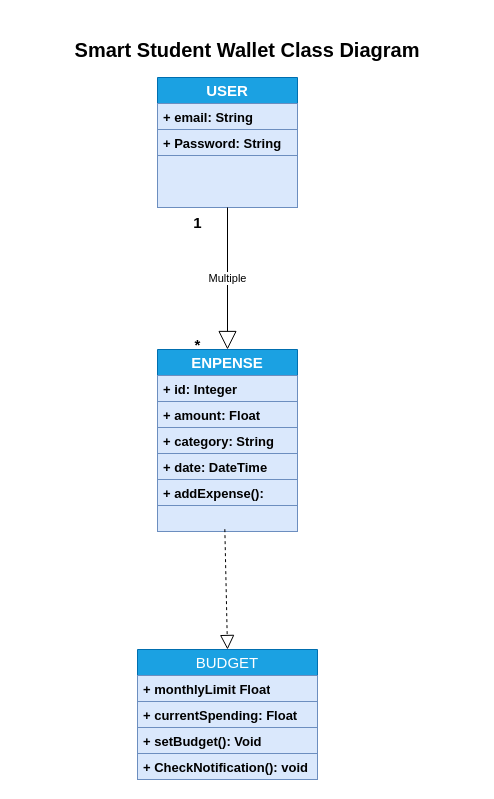
This 494x799 diagram has some shape labels left out. Here are the shapes that lost their labels. From the top down, the centre of each, then its label:
At (x=227, y=181): "+ register(): void + login(): void".
At (x=227, y=518): "+ viewHistory(): void".
